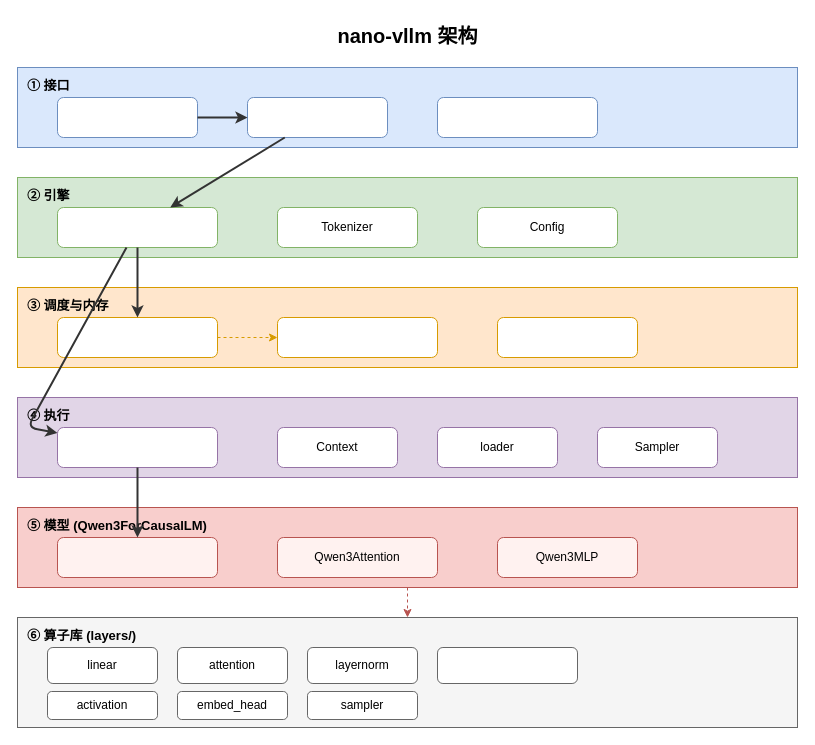
The diagram is 815 pixels wide and 745 high, and some of its shapes have lost their labels. The shapes that lost their labels are listed below. From the top down, each one's centre as x and y in pixels, then its label:
At [127,117]: "example.py".
At [317,117]: "LLM".
At [517,117]: "SamplingParams".
At [137,227]: "LLMEngine".
At [137,337]: "Scheduler".
At [357,337]: "BlockManager".
At [567,337]: "Sequence".
At [137,447]: "ModelRunner".
At [137,557]: "Qwen3Model".
At [507,665]: "rotary_embedding".
